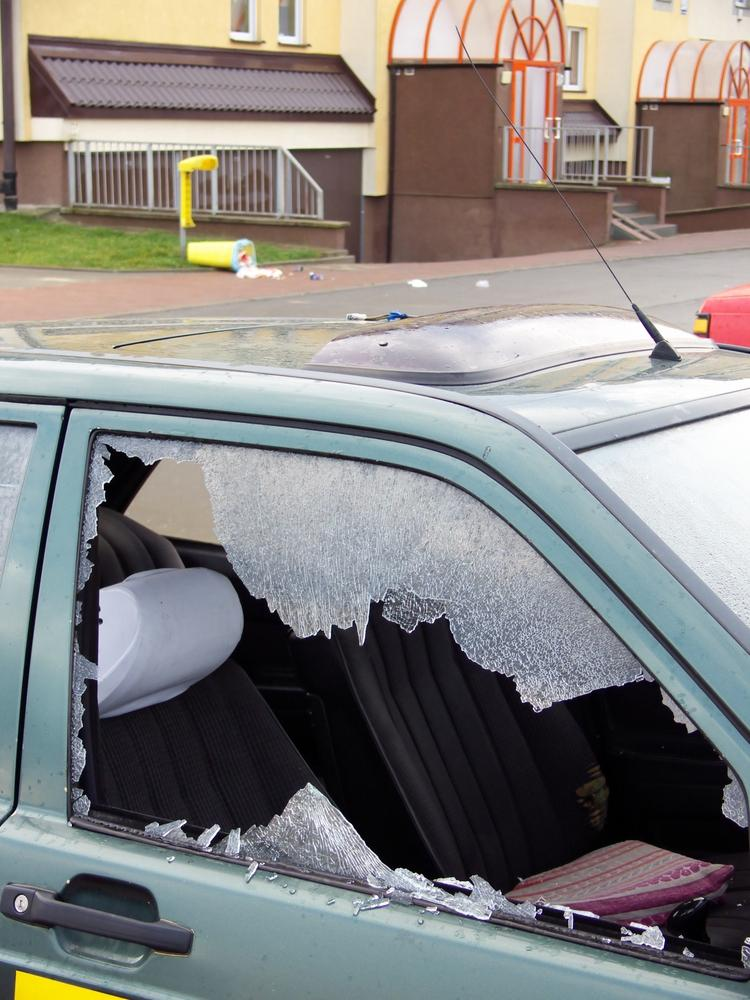glass shatter: (72, 430, 750, 979)
